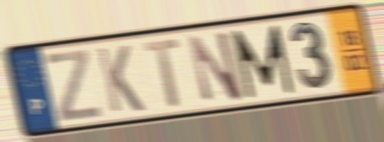3: (288, 19, 333, 94)
K: (94, 44, 147, 116)
M: (228, 23, 297, 102)
N: (185, 28, 246, 105)
T: (142, 36, 183, 110)
Z: (43, 47, 104, 124)
